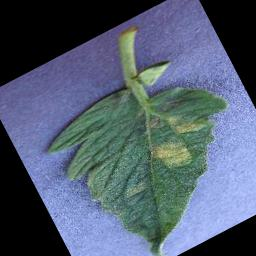Leaf_Mold: (144, 129, 197, 181), (164, 102, 207, 142)
